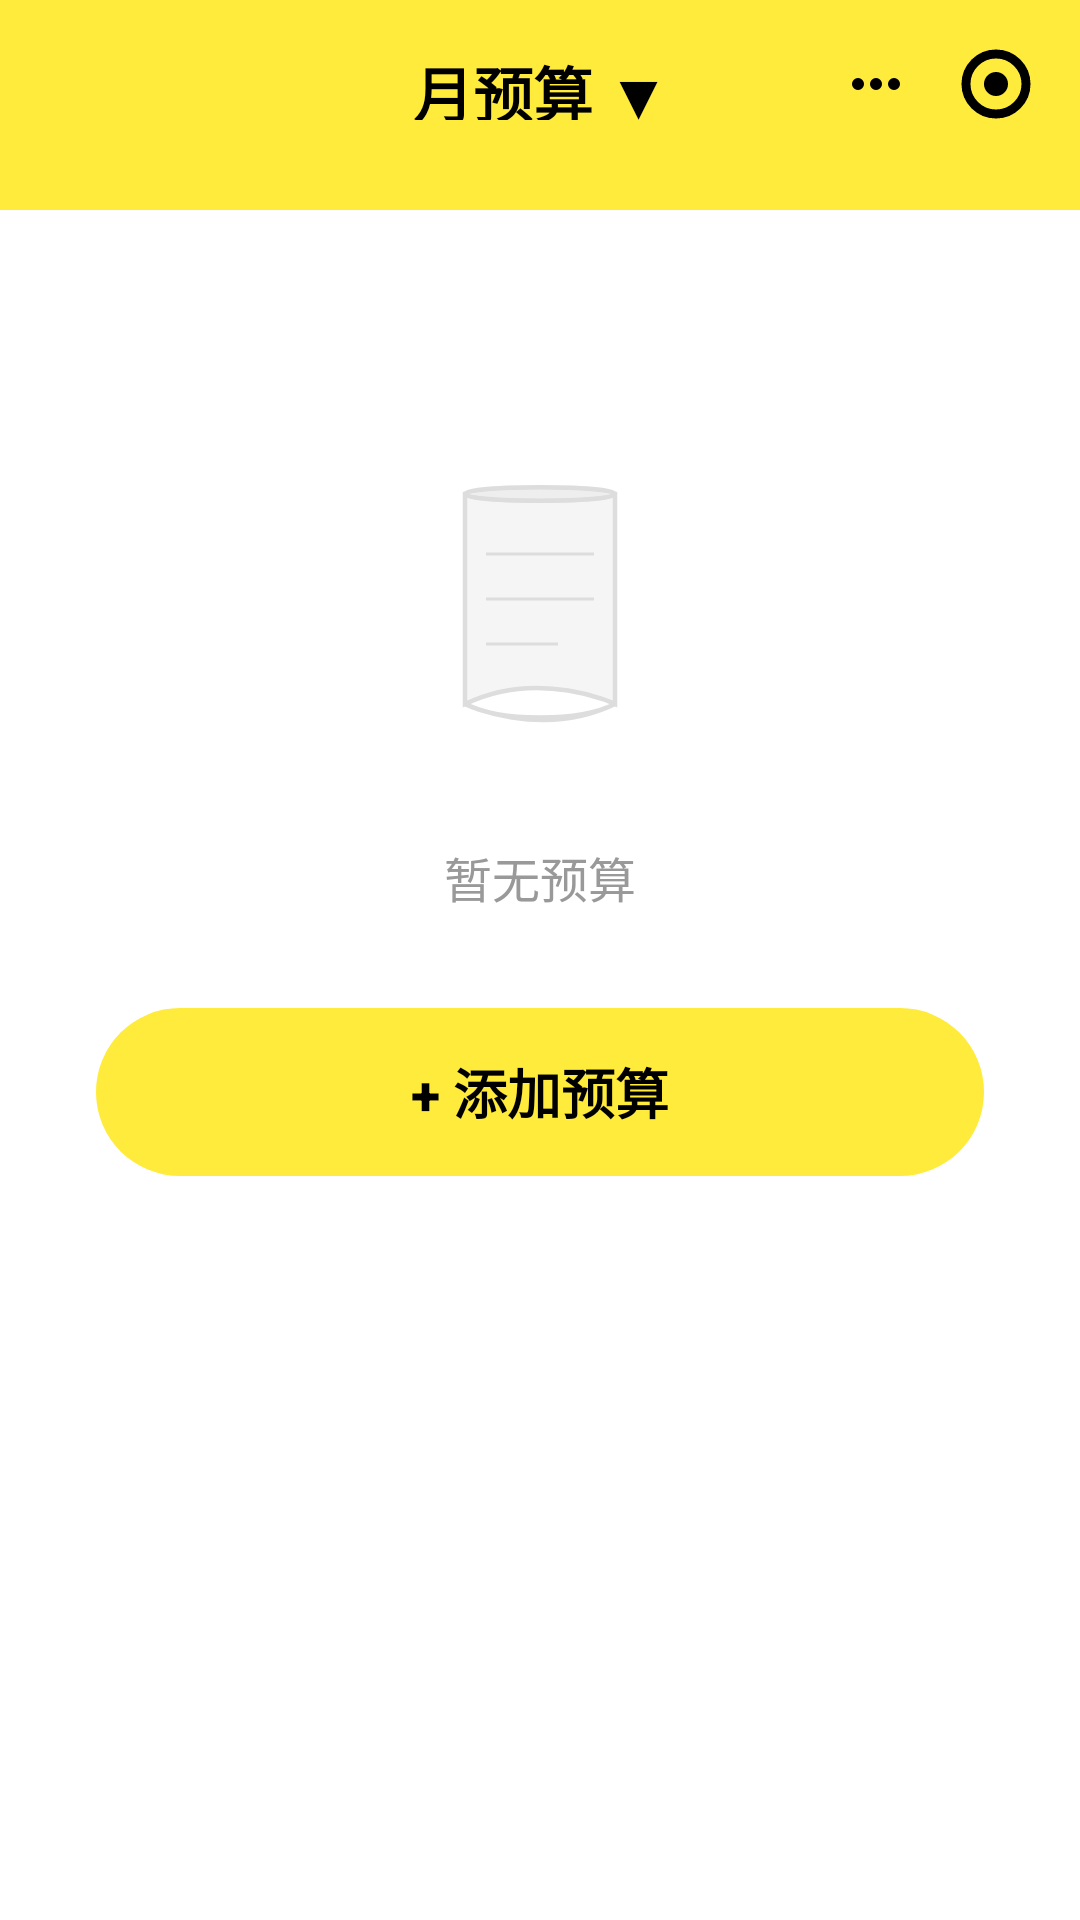

Point at icon controls on the screen. Image size 1080*1920, points as (x=x, y=y).
empty budget state: (x=540, y=603)
more: (x=876, y=84)
